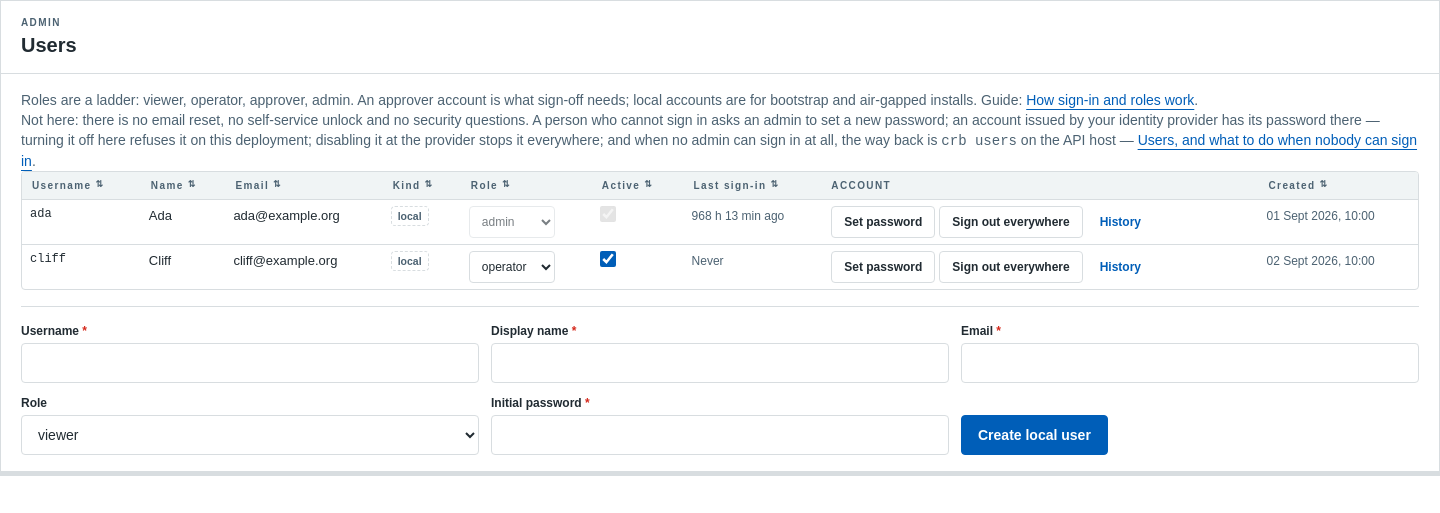
UsersCard › the active toggle deactivates through PUT /users/{id}/active and says what it did
The width and height of the screenshot is (1440, 513).
Click the checkbox with test id "user-active-cliff" at coordinates (608, 259), box [600,251,616,267]
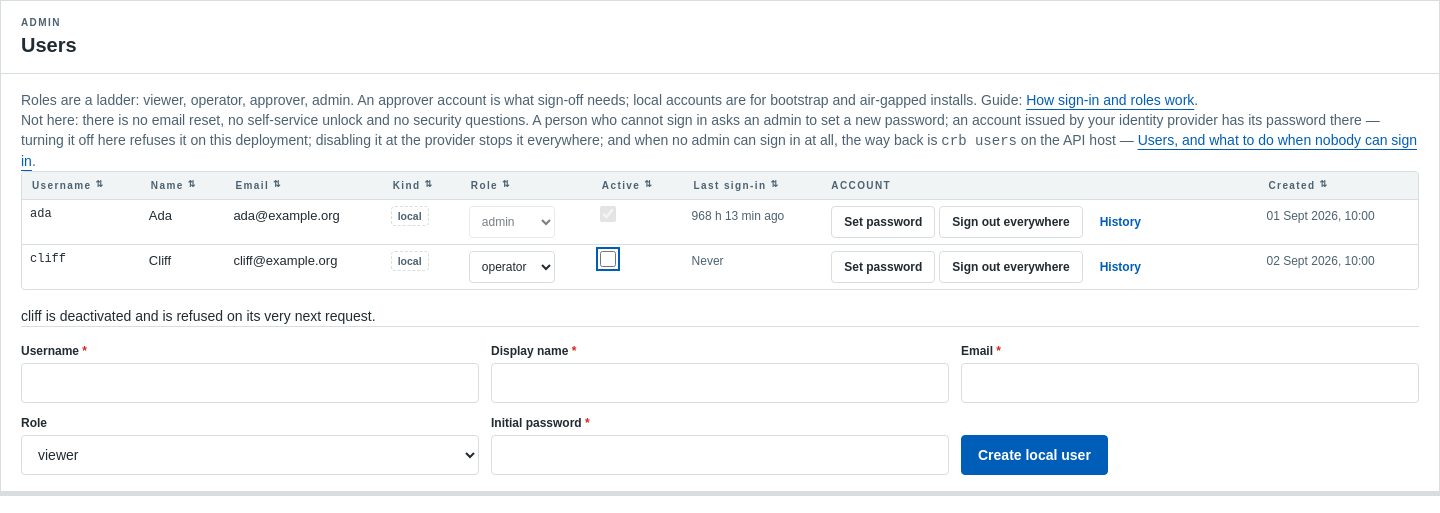
Expected: the message with test id "users-said" reads "cliff is deactivated and is refused on its very next request.", [21,308,376,324]
